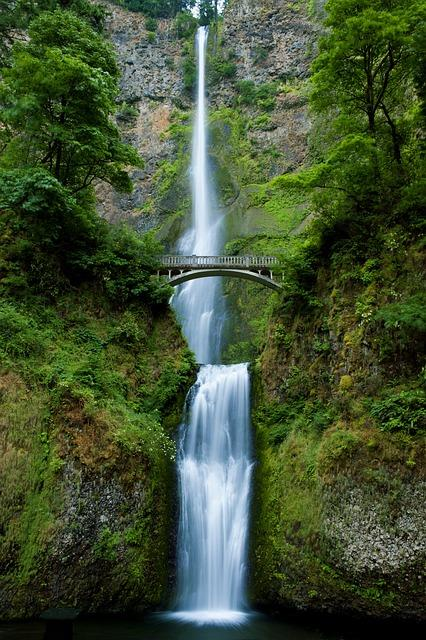Non_Gorille: (17, 50, 426, 631)
